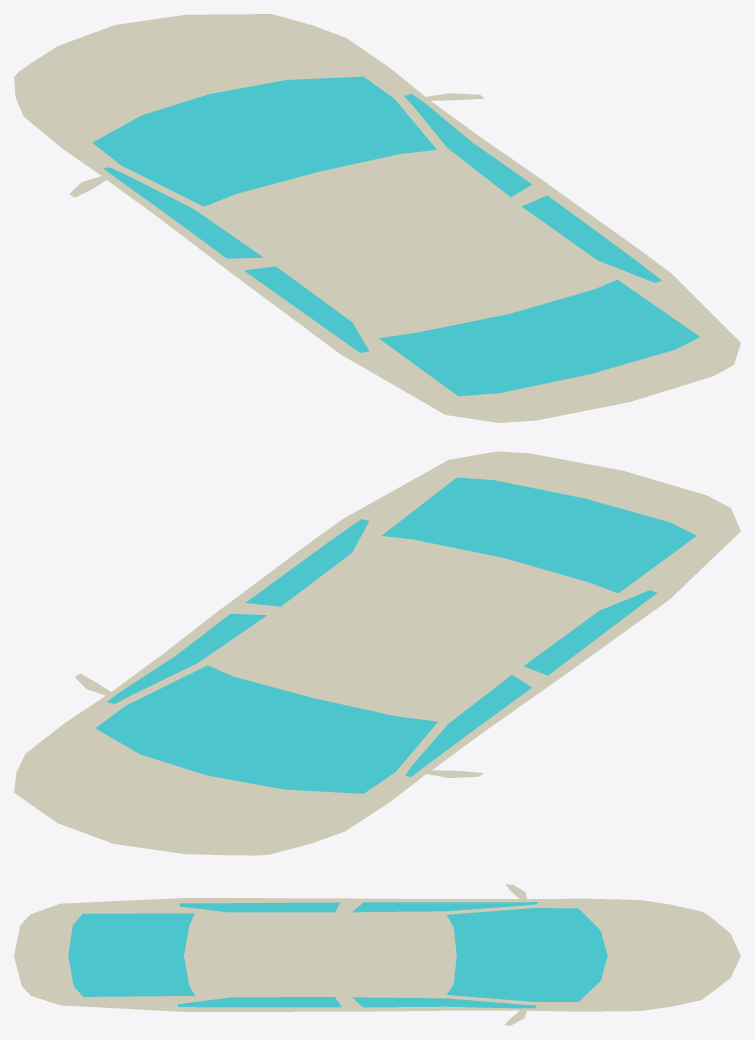
File: samochod.dae
3 views of the same model, one above another, from view 1: azimuth 30°, elevation 25°; view 2: azimuth 150°, elevation 25°; view 3: azimuth 270°, elevation 25° (orthographic). The views are drawn at different scales.
Parts seen in each view (by area): view 1: Plane; view 2: Plane; view 3: Plane.
Boxes of the visible parts, x1=… form: Plane: x1=14, y1=14, x2=740, y2=422; Plane: x1=14, y1=451, x2=740, y2=855; Plane: x1=14, y1=884, x2=740, y2=1025.
Size of the model in its own units: 1.88 by 4.09 by 0.
